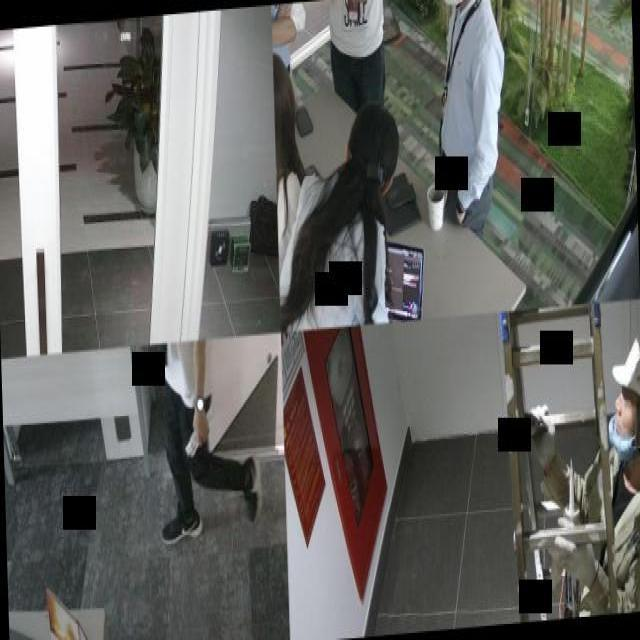hairnet: (606, 374, 640, 462)
